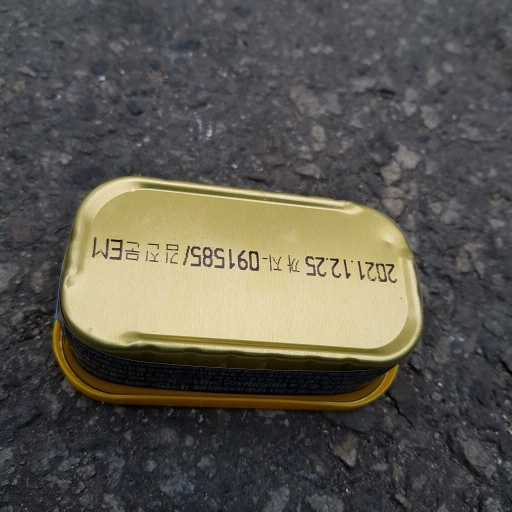Metal_2: (45, 170, 423, 414)
